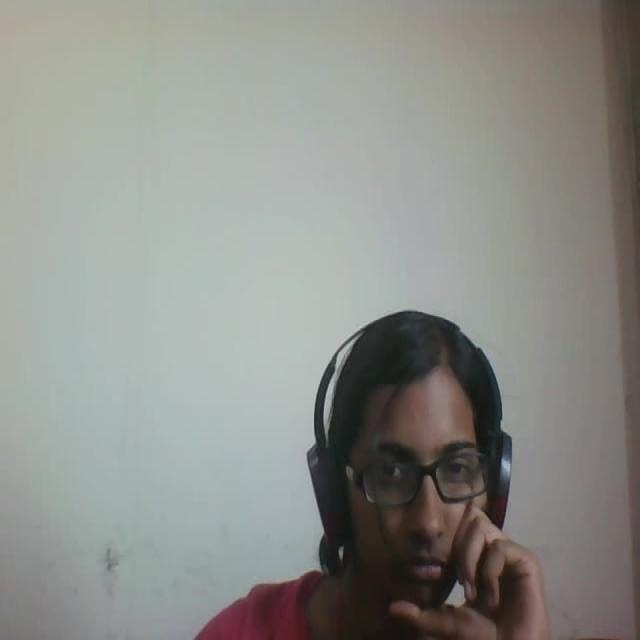Bored: (292, 288, 556, 638)
